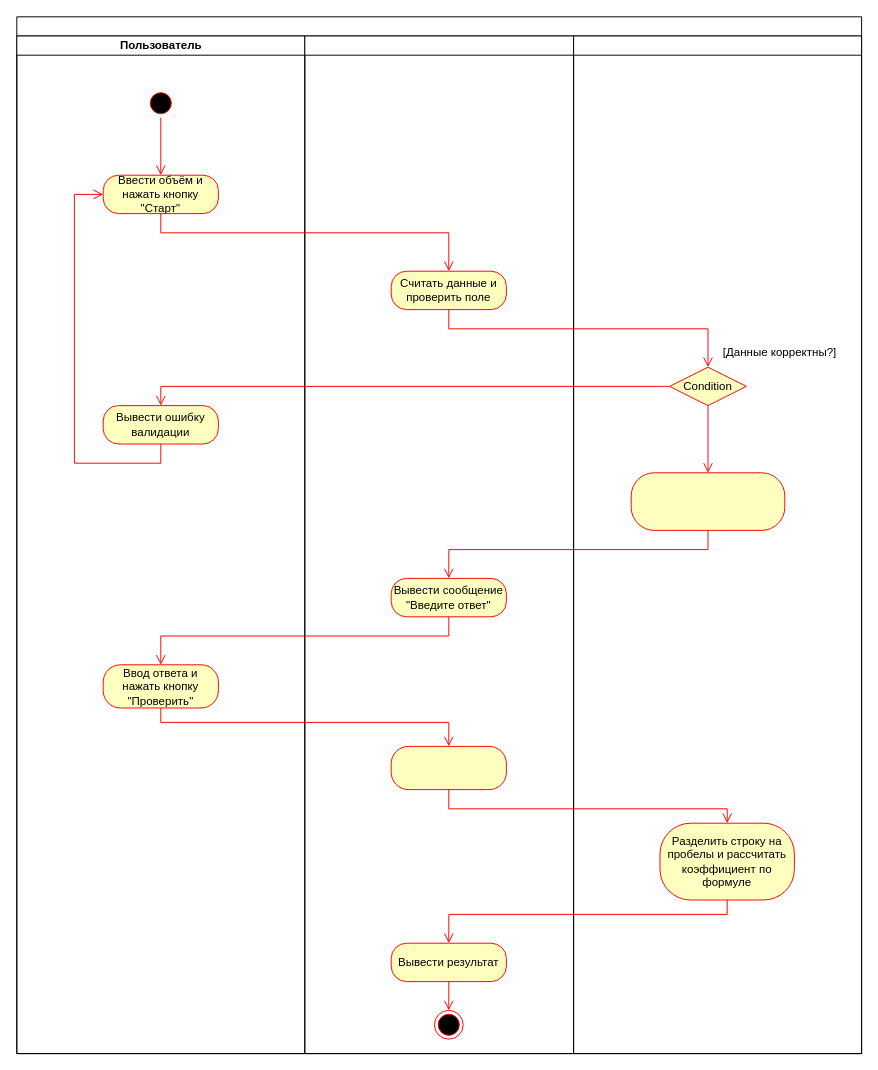
Image size: 878x1070. Some labels were removed from this diagram. Each missing label, with the box of its shape:
Сгенерировать пул чисел и запустить асинхронный показ: (630, 472, 785, 530)
Система: (304, 35, 574, 1054)
Считать ответ и проверить на пустоту: (390, 745, 506, 790)
Фасад: (573, 35, 862, 1054)
